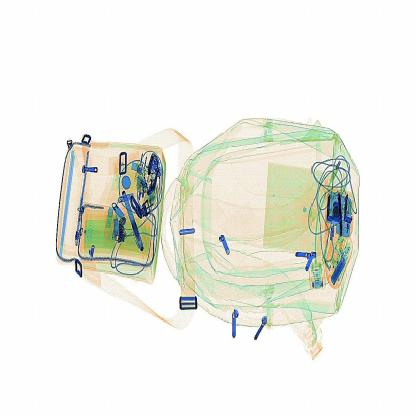knife: (330, 180, 353, 247)
